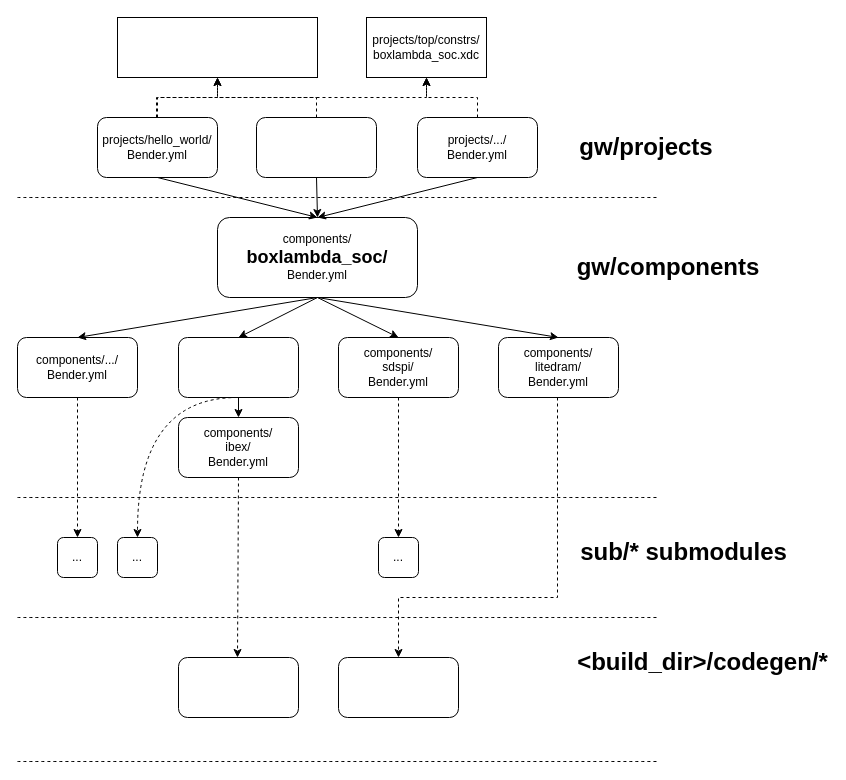
The diagram is 846 pixels wide and 780 high, and some of its shapes have lost their labels. Each missing label, with the centre of its shape:
"components/ ibex_wb_core/ Bender.yml" belongs at point (238, 367).
"ibex/*" belongs at point (238, 687).
"litedram/*" belongs at point (398, 687).
"projects/boxlambda_top/rtl/ boxlambda_top.sv" belongs at point (217, 47).
"projects/ddr_test/ Bender.yml" belongs at point (316, 147).
